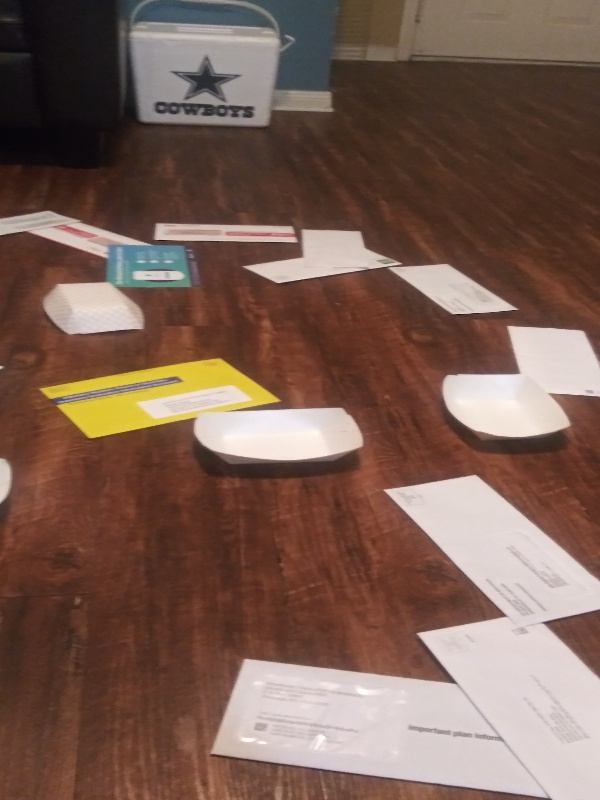plate: (190, 401, 367, 471), (437, 368, 576, 451), (43, 278, 150, 339), (1, 451, 19, 521)
